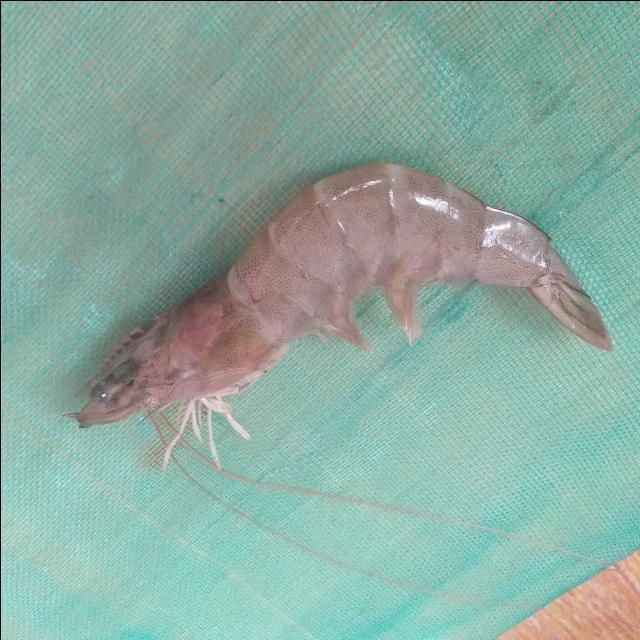shrimp: (70, 162, 611, 427)
